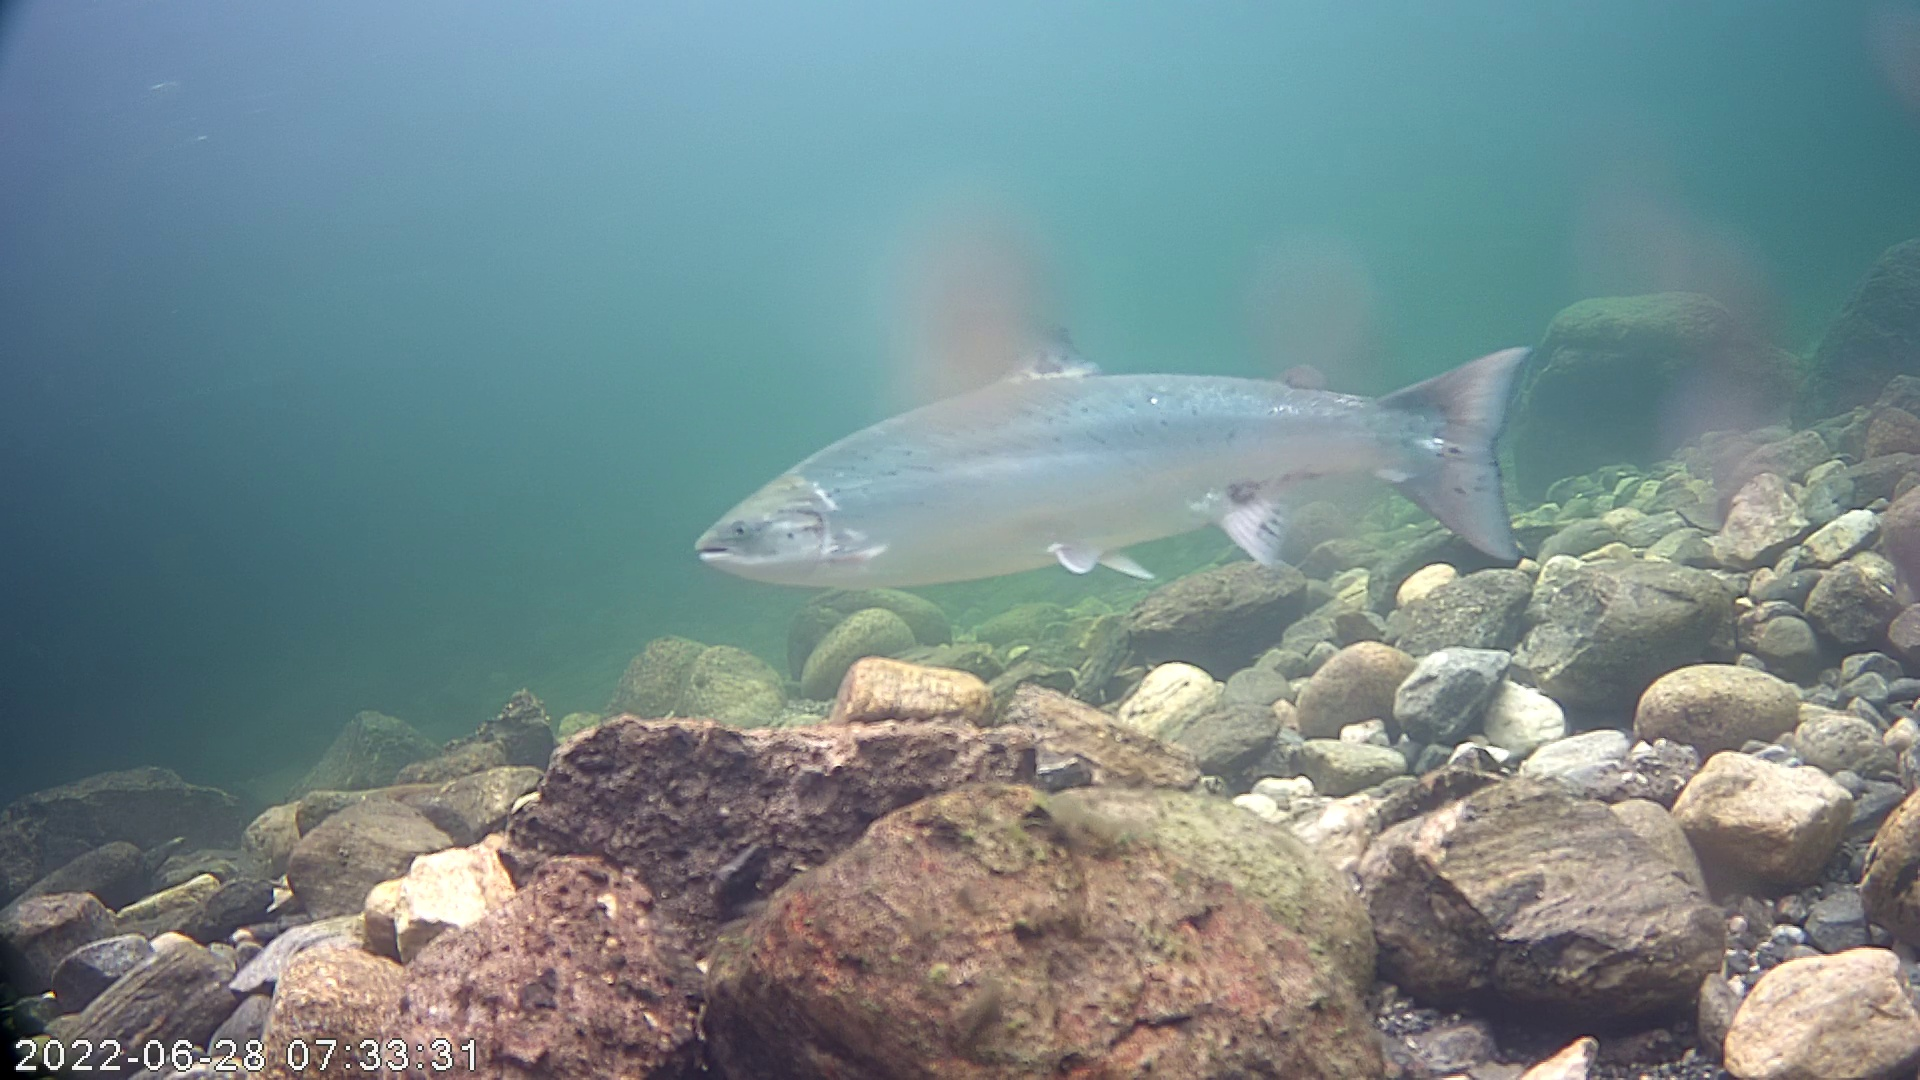salmon: (688, 215, 1573, 644)
